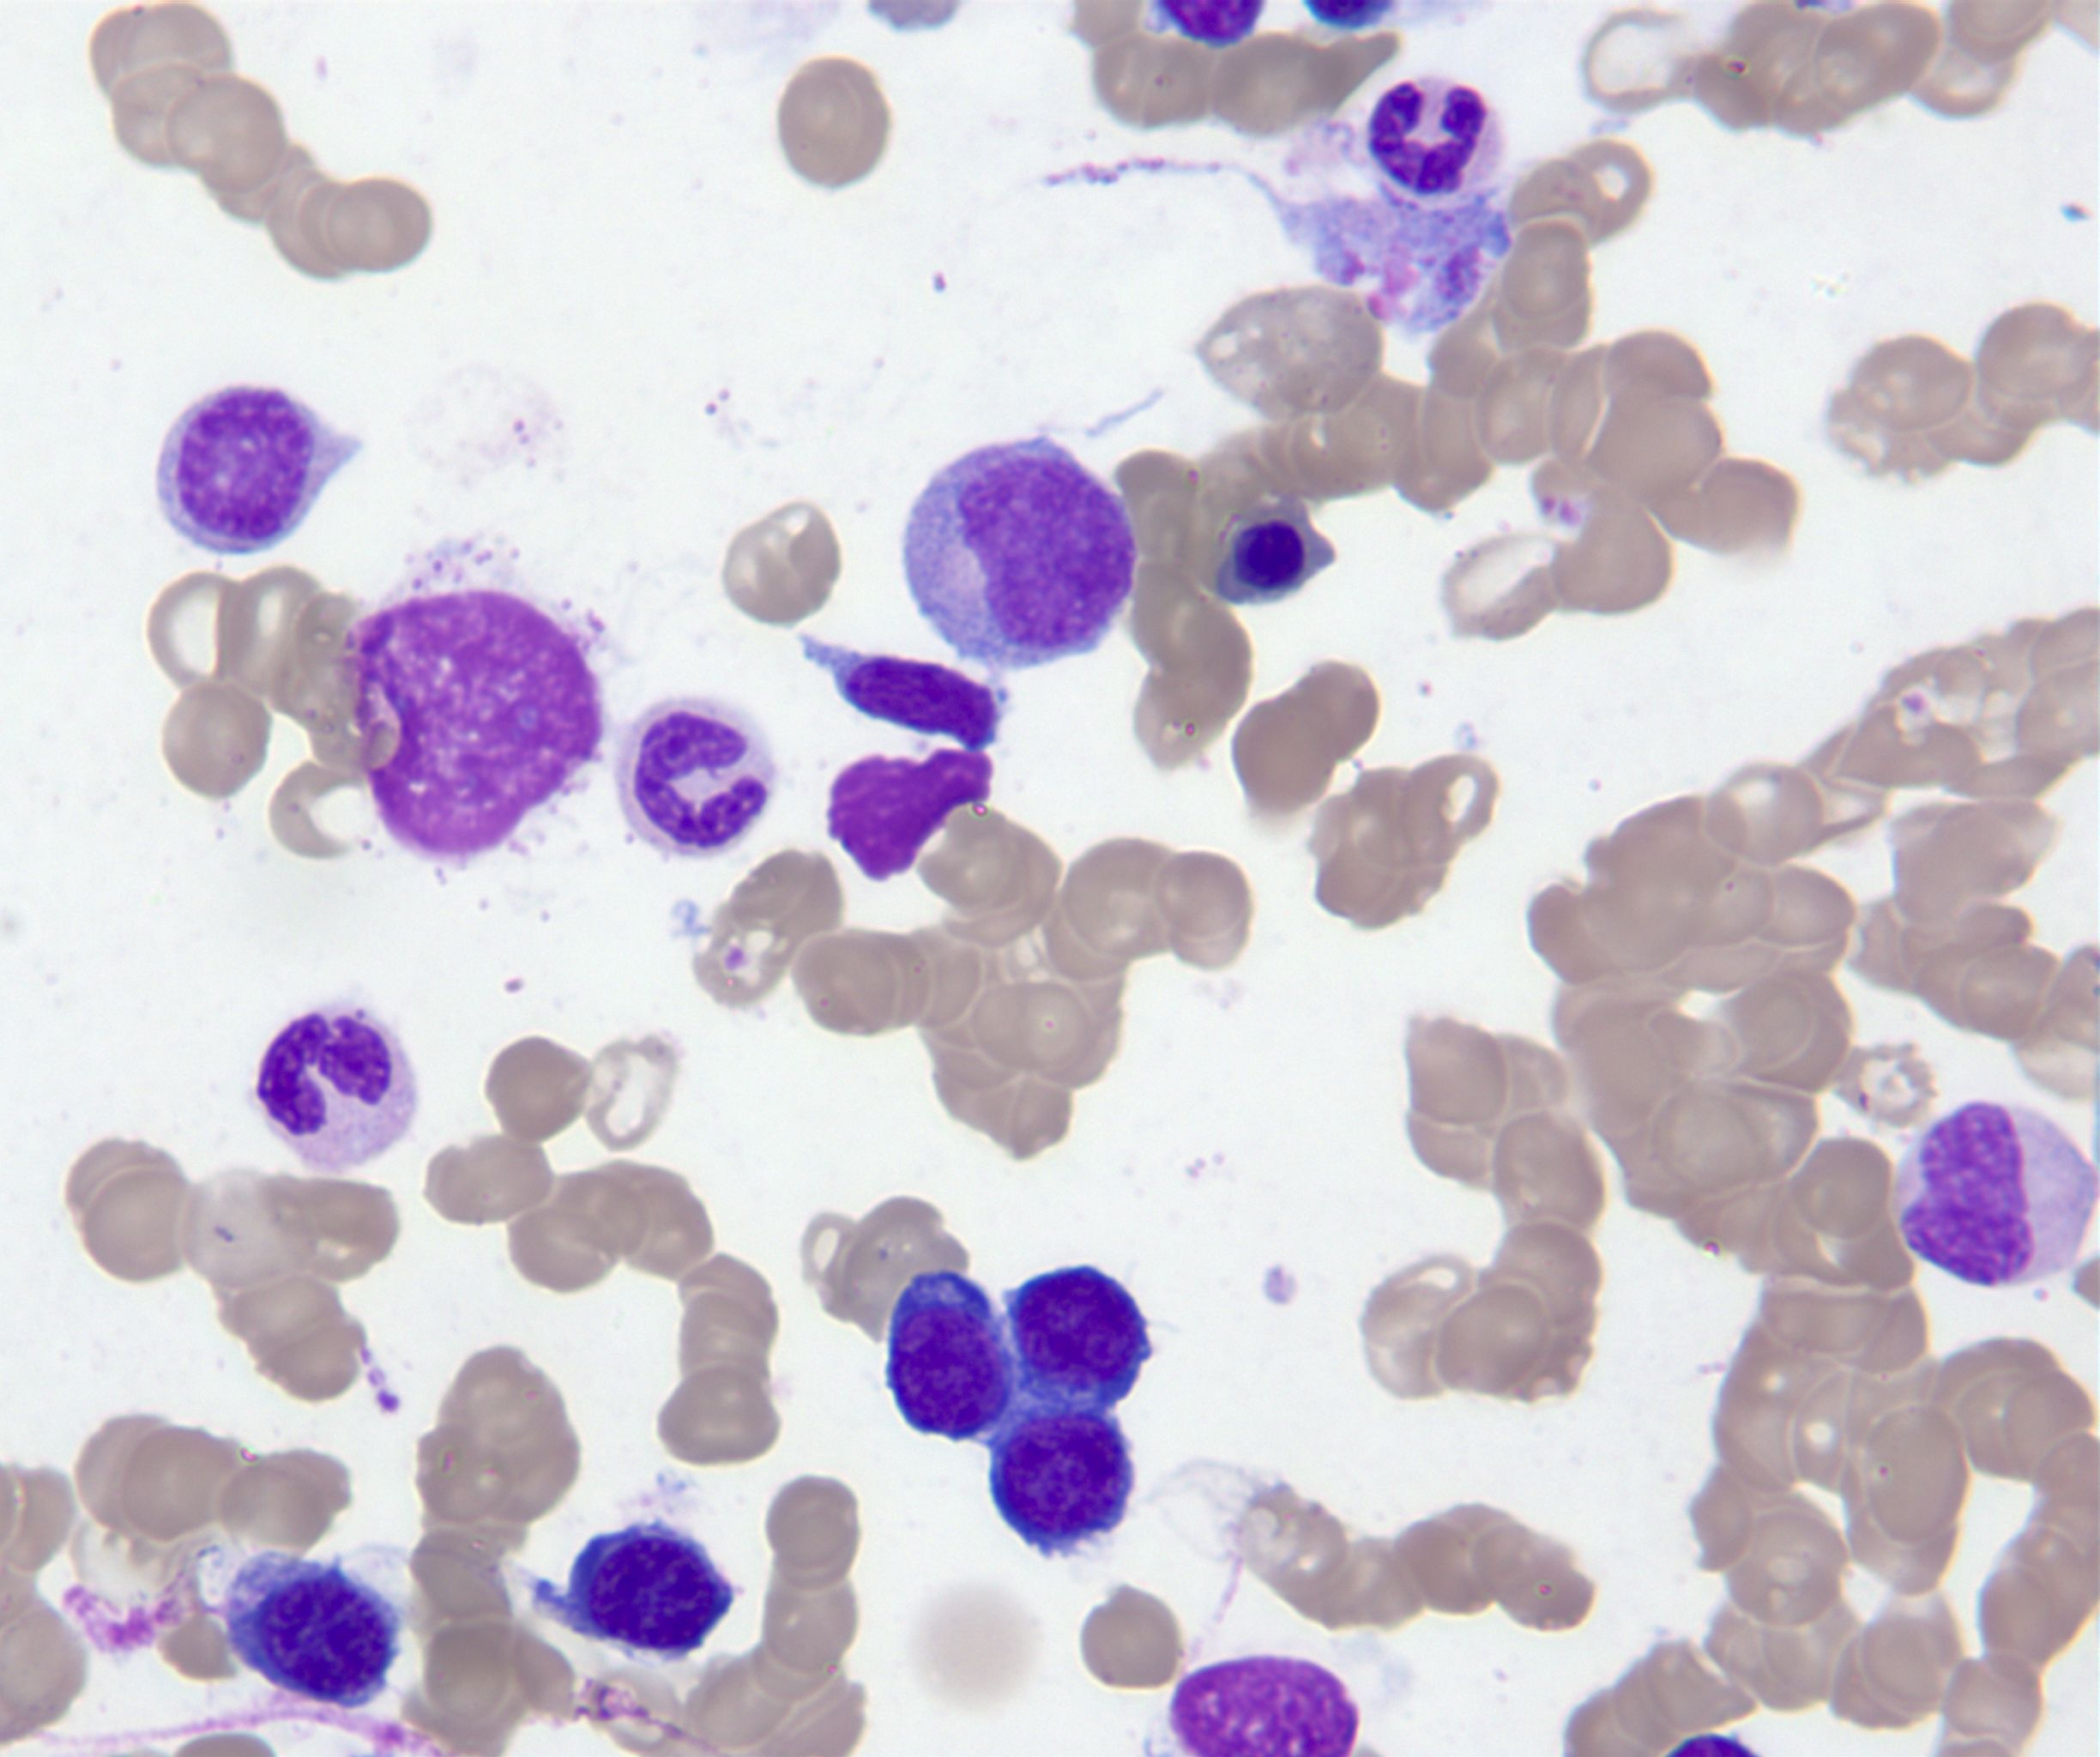23: (532, 1518, 734, 1665), (225, 1551, 398, 1706), (1001, 1267, 1153, 1415), (989, 1399, 1134, 1555), (886, 1270, 1013, 1443)
24: (1216, 496, 1336, 605)
3: (905, 436, 1137, 670), (157, 384, 359, 553)
32: (802, 633, 999, 749)
4: (1887, 1101, 2098, 1288)
5: (616, 698, 774, 857)
6: (249, 1002, 417, 1174), (1359, 72, 1503, 208)
x: (338, 590, 602, 865), (828, 750, 994, 881), (1169, 1658, 1359, 1757)
